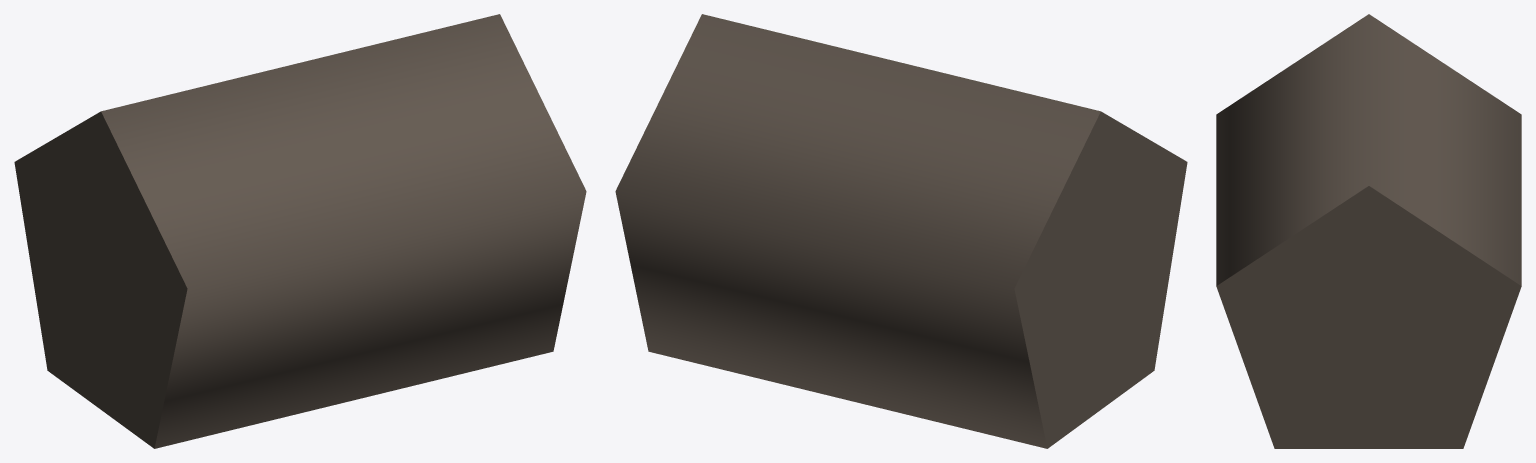
Rendered from pipeset1_pipe2ring.fbx.
The picture shows the model from 3 angles, left to right: view 1: azimuth 30°, elevation 25°; view 2: azimuth 150°, elevation 25°; view 3: azimuth 270°, elevation 25°; orthographic projection. The views are drawn at different scales.
Parts seen in each view (by area): view 1: pipeset1_pipe2ring; view 2: pipeset1_pipe2ring; view 3: pipeset1_pipe2ring.
Boxes of the visible parts, bbox=[...] form: pipeset1_pipe2ring: bbox=[14, 14, 586, 448]; pipeset1_pipe2ring: bbox=[615, 14, 1187, 448]; pipeset1_pipe2ring: bbox=[1216, 14, 1521, 448].
Size of the model in its own units: 44.92 by 32.11 by 33.76.
